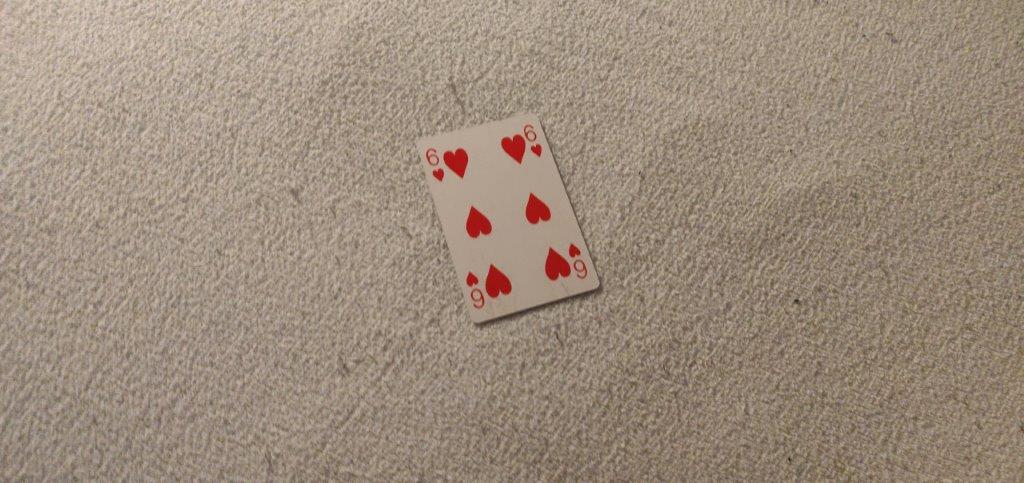6H: (521, 121, 547, 164), (422, 144, 448, 186)
